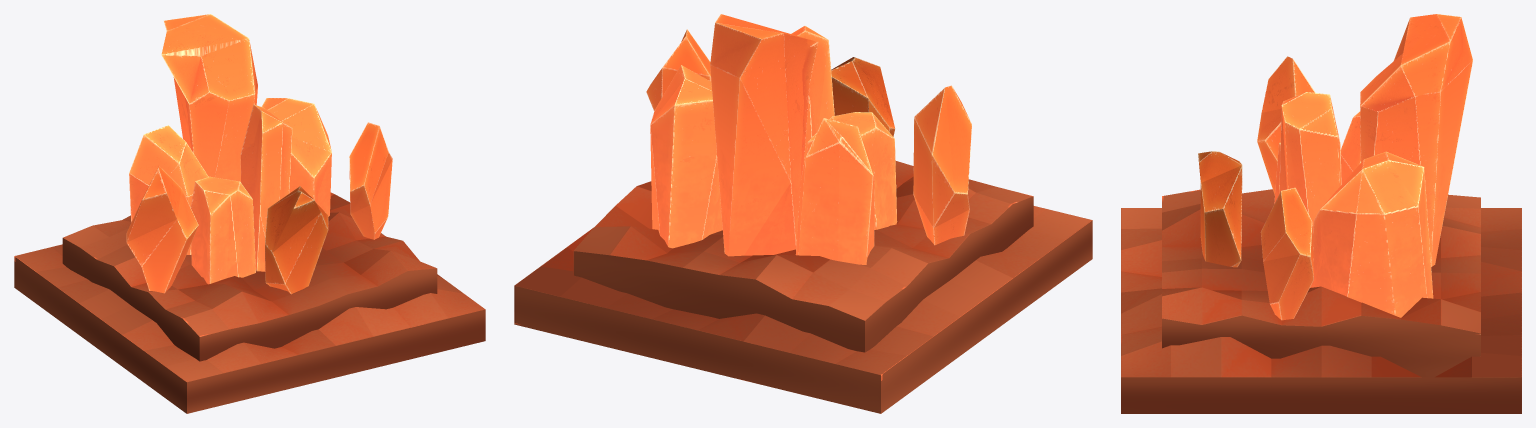
The model's file is earthgem_levels-v2.fbx.
The picture shows the model from 3 angles, left to right: view 1: azimuth 30°, elevation 25°; view 2: azimuth 150°, elevation 25°; view 3: azimuth 270°, elevation 25°; orthographic projection. The views are drawn at different scales.
Parts seen in each view (by area): view 1: 7, 6, 5, 2, 8, 10, 1, 3, 9, 4; view 2: 7, 6, 5, 3, 4, 8, 2, 10, 1, 9; view 3: 7, 6, 3, 5, 1, 9, 10, 8, 4.
Part boxes in pixels (box(x1,y1,x2,y2)): 7: box(14, 233, 485, 413); 6: box(62, 192, 437, 361); 5: box(161, 14, 257, 182); 2: box(190, 176, 255, 284); 8: box(126, 166, 198, 293); 10: box(265, 186, 328, 294); 1: box(240, 104, 292, 271); 3: box(261, 98, 331, 216); 9: box(349, 122, 392, 239); 4: box(129, 125, 208, 254); 7: box(514, 206, 1092, 413); 6: box(573, 161, 1033, 352); 5: box(710, 14, 818, 256); 3: box(650, 65, 722, 248); 4: box(795, 118, 874, 264); 8: box(913, 85, 971, 245); 2: box(807, 112, 897, 229); 10: box(831, 57, 895, 136); 1: box(791, 26, 834, 164); 9: box(646, 29, 711, 110); 7: box(1121, 208, 1521, 413); 6: box(1162, 189, 1480, 377); 3: box(1310, 151, 1433, 317); 5: box(1360, 14, 1472, 266); 1: box(1279, 92, 1341, 233); 9: box(1260, 187, 1313, 320); 10: box(1198, 151, 1242, 267); 8: box(1257, 56, 1315, 195); 4: box(1340, 111, 1360, 184).
Bounding box in the file's own units: 729 × 597 × 729.
